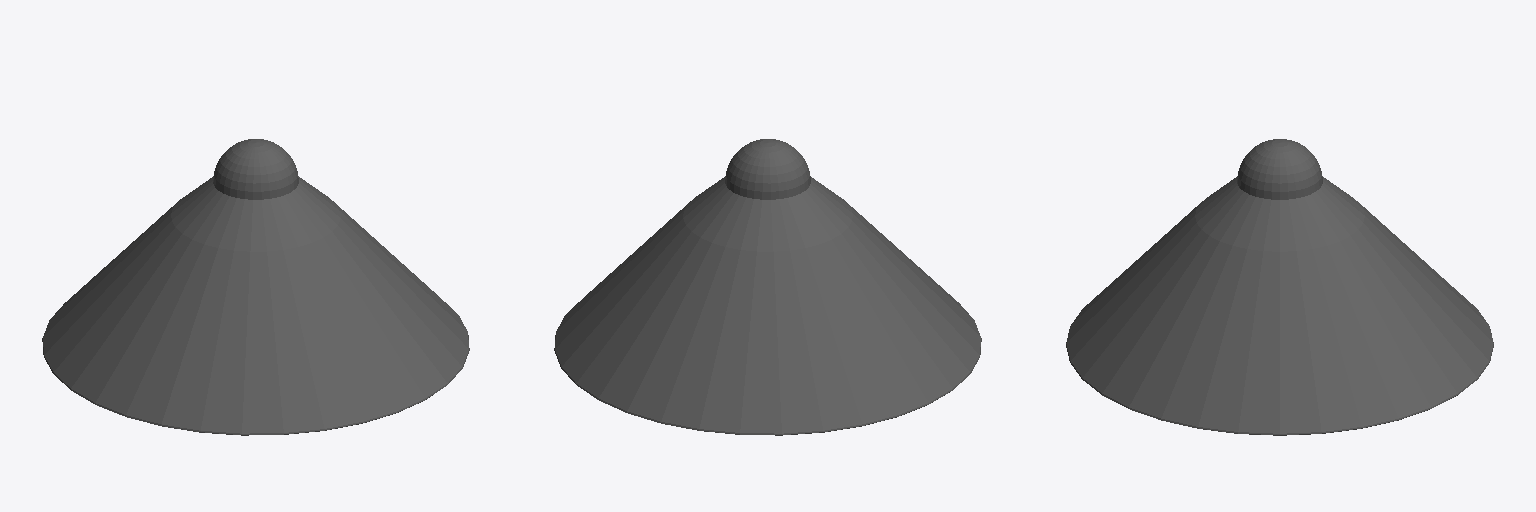
The model's file is LampHead.obj.
3 renders of one model, left to right at view 1: azimuth 30°, elevation 25°; view 2: azimuth 150°, elevation 25°; view 3: azimuth 270°, elevation 25°, orthographic.
Visible parts, largest first — view 1: Sphere; view 2: Sphere; view 3: Sphere.
Part boxes in pixels (left/top/right/bottom): Sphere: left=42, top=139, right=469, bottom=435; Sphere: left=554, top=139, right=981, bottom=435; Sphere: left=1066, top=139, right=1493, bottom=435.
Bounding box in the file's own units: 9.95 × 5.81 × 9.95.